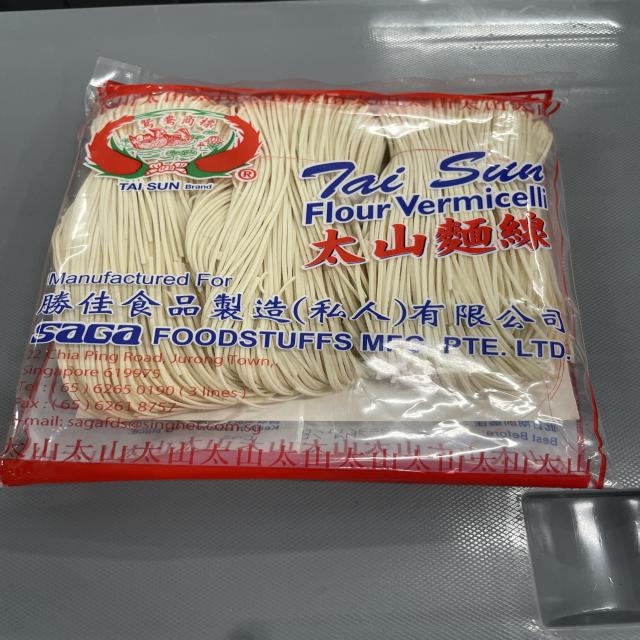object_name: (86, 90, 580, 471)
